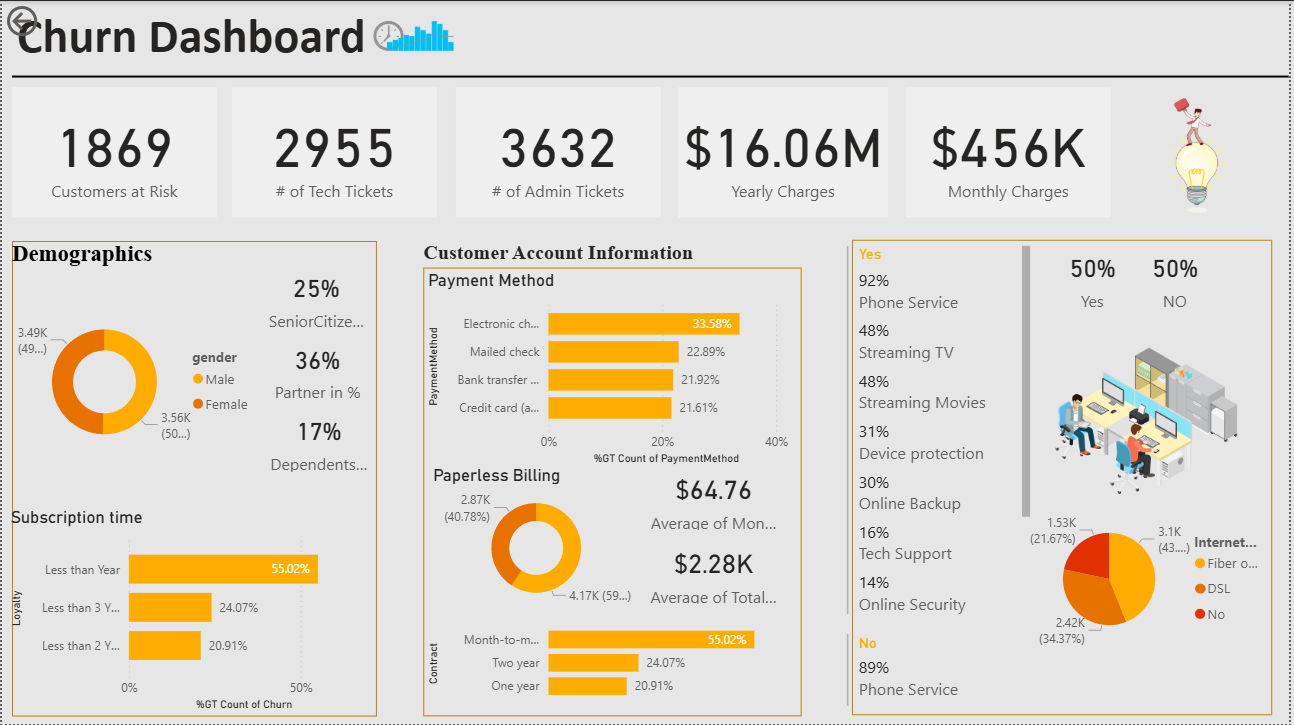

The page's visual inventory and layout, read from the dashboard file:
{"tool":"powerbi","page":{"name":"Churn Dashboard","canvas":[1280,720],"ordinal":1},"visuals":[{"type":"textbox","box":[9.6,0,1270.7,70],"z":0},{"type":"image","box":[290.9,0,236,70],"z":1000},{"type":"shape","box":[9.8,0,1270.5,150.4],"z":2000},{"type":"card","fields":{"Values":["Churn.Count of Churn for Yes"]},"box":[9.8,85.6,204.2,129.6],"z":3000},{"type":"card","fields":{"Values":["Sum(Churn- unpivot data.numTechTickets)"]},"box":[228.7,85.6,204.2,129.6],"z":4000},{"type":"card","fields":{"Values":["Sum(Churn- unpivot data.numAdminTickets)"]},"box":[451.2,85.6,204.2,129.6],"z":5000},{"type":"card","fields":{"Values":["Sum(Churn.MonthlyCharges)"]},"box":[898.8,85.6,204.2,129.6],"z":6000},{"type":"card","fields":{"Values":["Sum(Churn.TotalCharges)"]},"box":[672.6,85.6,209.1,129.6],"z":7000},{"type":"shape","box":[9.8,238.5,363.2,473.2],"z":8000},{"type":"shape","title":"Customer Account Information","box":[419.4,238.5,376.6,473.2],"z":9000},{"type":"shape","box":[846.2,237.2,418.2,473.2],"z":10000},{"type":"donutChart","fields":{"Category":["Churn.gender"],"Y":["CountNonNull(Churn.gender)"]},"box":[9.8,297.1,249.5,163.9],"z":11000},{"type":"clusteredBarChart","title":"Subscription time","fields":{"Y":["CountNonNull(Churn.Churn)"],"Category":["Churn (2).Loyalty"]},"box":[3.7,503.8,369.3,207.9],"z":12000},{"type":"card","fields":{"Values":["Churn.SeniorCitizen in %"]},"box":[259.2,261.7,108.8,70.9],"z":13000},{"type":"card","fields":{"Values":["Churn.Partner in %"]},"box":[260.5,332.6,108.8,70.9],"z":14000},{"type":"card","fields":{"Values":["Churn.Dependents in %"]},"box":[261.7,403.5,108.8,70.9],"z":15000},{"type":"clusteredBarChart","title":"Payment Method","fields":{"Category":["Churn.PaymentMethod"],"Y":["CountNonNull(Churn.PaymentMethod)"]},"box":[419.4,267.8,376.6,199.3],"z":16000},{"type":"donutChart","title":"Paperless Billing","fields":{"Category":["Churn.PaperlessBilling"],"Y":["CountNonNull(Churn.PaperlessBilling)"]},"box":[424.3,461,215.2,146.7],"z":17000},{"type":"actionButton","box":[0,0,100,40],"z":18000},{"type":"card","fields":{"Values":["Avg(Churn- unpivot data.MonthlyCharges)"]},"box":[639.5,461,138.2,69.7],"z":19000},{"type":"card","fields":{"Values":["Avg(Churn- unpivot data.TotalCharges)"]},"box":[639.5,534.4,138.2,69.7],"z":20000},{"type":"clusteredBarChart","title":"Type of Contract","fields":{"Y":["CountNonNull(Churn.Contract)"],"Category":["Churn.Contract"]},"box":[419.4,604.1,376.6,101.5],"z":21000},{"type":"multiRowCard","fields":{"Values":["Churn.Phone Service in %","Churn.Streaming TV in %","Churn.Streaming Movies in %","Churn.Device protection in %","Churn.Online Bacup in %","Churn.Tech Support in %","Churn.Online Sec. in %","Churn.PaperlessBilling (group)"]},"box":[836.4,238.5,192,467.1],"z":22000},{"type":"card","fields":{"Values":["Churn.Multiple lines no in %"]},"box":[1126.2,238.5,83.2,74.6],"z":23000},{"type":"card","fields":{"Values":["Churn.Multiple Lines yes in %"]},"box":[1043.1,238.5,83.2,74.6],"z":24000},{"type":"pieChart","fields":{"Category":["Churn.InternetService"],"Y":["CountNonNull(Churn.InternetService)"]},"box":[1012.5,439,251.9,272.7],"z":25000},{"type":"image","box":[1043.1,324.1,190.8,188.3],"z":26000},{"type":"image","box":[1126.2,91.7,126,123.5],"z":27000}]}

Visuals, with their boxes in screenshot pixels (x1, y1, x2, y2), scaled from the page's 1280x720 canvas onto the 1294x725 screenshot:
textbox: locate(10, 0, 1293, 70)
image: locate(294, 0, 533, 70)
shape: locate(10, 0, 1293, 151)
card - Churn.Count of Churn for Yes: locate(10, 86, 216, 217)
card - Sum(Churn- unpivot data.numTechTickets): locate(231, 86, 438, 217)
card - Sum(Churn- unpivot data.numAdminTickets): locate(456, 86, 663, 217)
card - Sum(Churn.MonthlyCharges): locate(909, 86, 1115, 217)
card - Sum(Churn.TotalCharges): locate(680, 86, 891, 217)
shape: locate(10, 240, 377, 717)
"Customer Account Information" shape: locate(424, 240, 805, 717)
shape: locate(855, 239, 1278, 715)
donutChart - Churn.gender x CountNonNull(Churn.gender): locate(10, 299, 262, 464)
"Subscription time" clusteredBarChart: locate(4, 507, 377, 717)
card - Churn.SeniorCitizen in %: locate(262, 264, 372, 335)
card - Churn.Partner in %: locate(263, 335, 373, 406)
card - Churn.Dependents in %: locate(265, 406, 375, 478)
"Payment Method" clusteredBarChart: locate(424, 270, 805, 470)
"Paperless Billing" donutChart: locate(429, 464, 646, 612)
actionButton: locate(0, 0, 101, 40)
card - Avg(Churn- unpivot data.MonthlyCharges): locate(646, 464, 786, 534)
card - Avg(Churn- unpivot data.TotalCharges): locate(646, 538, 786, 608)
"Type of Contract" clusteredBarChart: locate(424, 608, 805, 710)
multiRowCard - Churn.Phone Service in % x Churn.Streaming TV in %: locate(846, 240, 1040, 710)
card - Churn.Multiple lines no in %: locate(1139, 240, 1223, 315)
card - Churn.Multiple Lines yes in %: locate(1055, 240, 1139, 315)
pieChart - Churn.InternetService x CountNonNull(Churn.InternetService): locate(1024, 442, 1278, 717)
image: locate(1055, 326, 1247, 516)
image: locate(1139, 92, 1266, 217)
